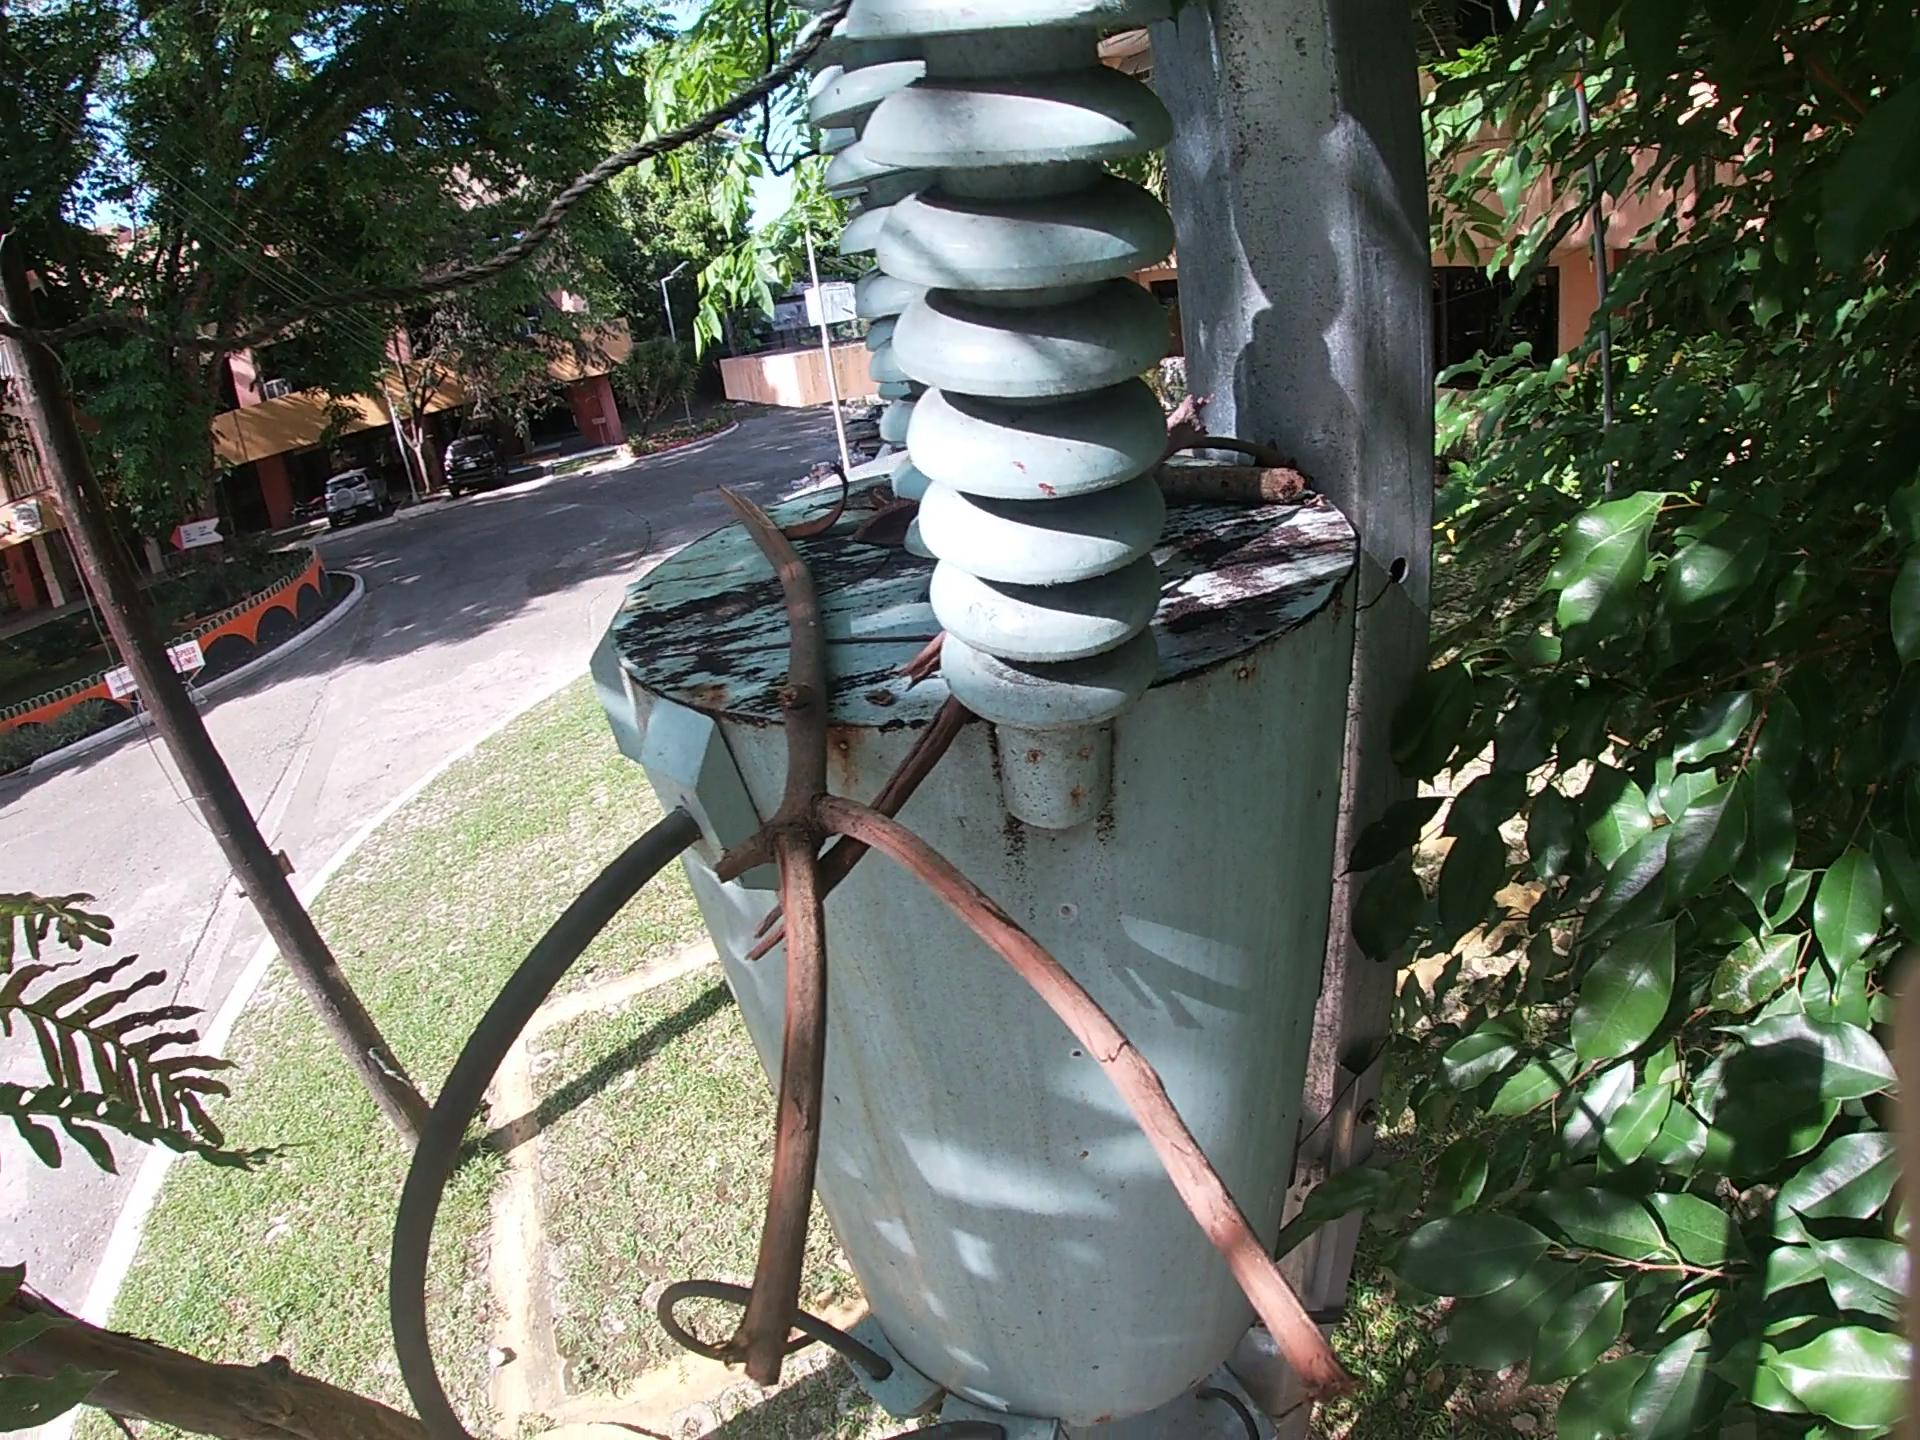mahogany fruit: (848, 517, 927, 569), (791, 458, 845, 532)
tree branch: (708, 484, 1377, 1413), (751, 705, 969, 964), (659, 625, 931, 666), (1163, 455, 1332, 507), (1176, 434, 1312, 458), (1166, 395, 1219, 436), (897, 646, 930, 697)
